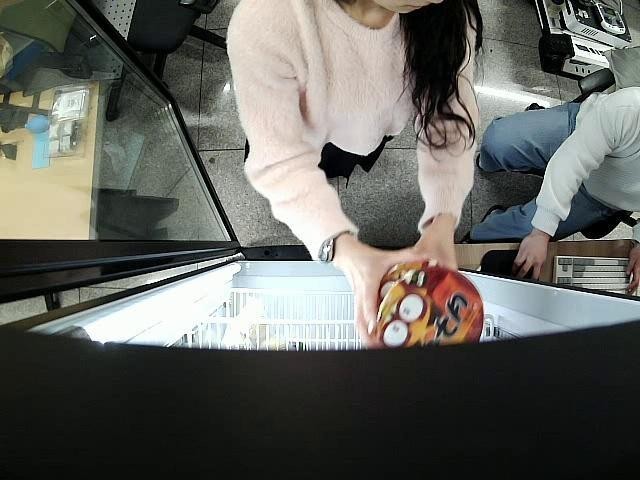05_nuguri_L: (370, 259, 485, 352)
